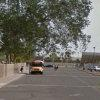Tree: (8, 0, 100, 52)
